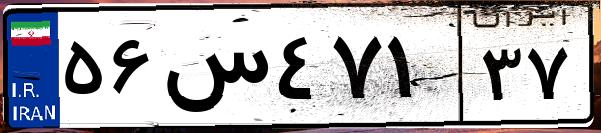1: (385, 28, 445, 110)
3: (475, 38, 525, 113)
4: (270, 28, 330, 110)
5: (57, 26, 110, 100)
6: (110, 28, 158, 98)
7: (330, 28, 385, 110), (525, 38, 570, 115)
س: (158, 20, 270, 120)
